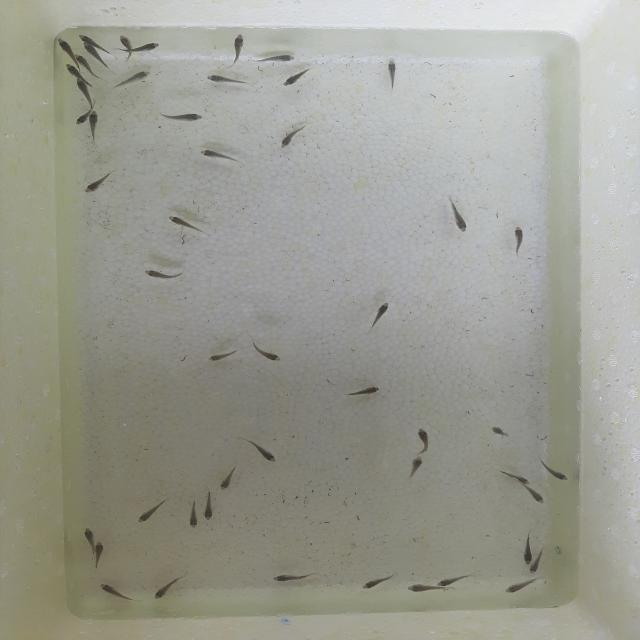fingerling: (147, 577, 180, 604), (249, 343, 286, 365), (133, 501, 168, 524), (276, 126, 306, 152), (116, 70, 153, 90), (370, 298, 394, 328), (251, 442, 281, 466), (488, 423, 528, 440), (166, 212, 199, 232), (278, 68, 313, 86), (508, 223, 528, 254), (194, 148, 234, 163), (451, 206, 472, 234), (415, 424, 435, 453), (337, 386, 385, 398), (98, 582, 129, 600), (404, 453, 426, 478), (142, 267, 177, 282), (200, 349, 234, 364), (503, 579, 537, 594), (202, 490, 217, 523), (82, 175, 108, 194), (523, 489, 549, 507), (205, 73, 247, 84), (496, 471, 534, 483), (519, 536, 534, 566), (218, 466, 235, 492), (255, 54, 299, 64), (541, 468, 570, 483), (87, 109, 101, 139), (231, 33, 246, 61), (384, 59, 399, 86), (160, 113, 207, 121), (82, 526, 98, 549), (530, 550, 545, 574), (92, 540, 109, 561), (358, 578, 391, 588), (188, 500, 198, 532), (271, 574, 310, 582), (58, 38, 74, 57), (76, 79, 90, 100), (84, 39, 98, 60), (136, 43, 162, 53), (117, 34, 132, 50), (435, 578, 465, 586), (408, 583, 432, 593), (66, 64, 83, 78), (75, 55, 91, 67), (76, 112, 90, 124), (79, 34, 92, 42)
